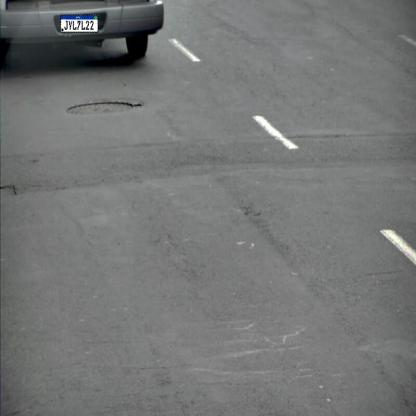PlacaM: (60, 14, 98, 32)
